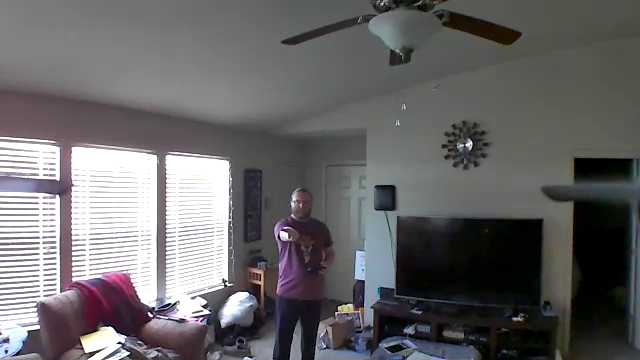land: (279, 225, 300, 243)
